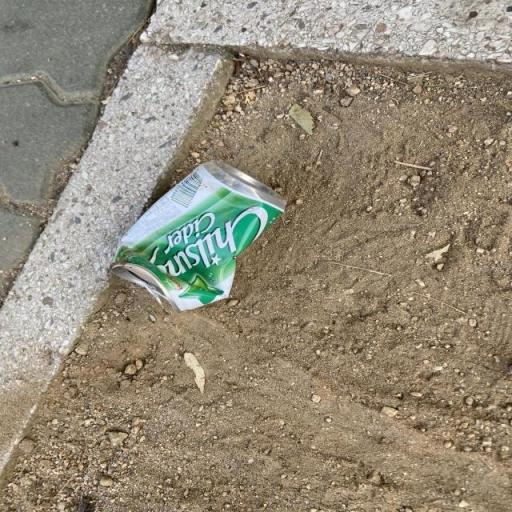metal: (78, 149, 320, 341)
